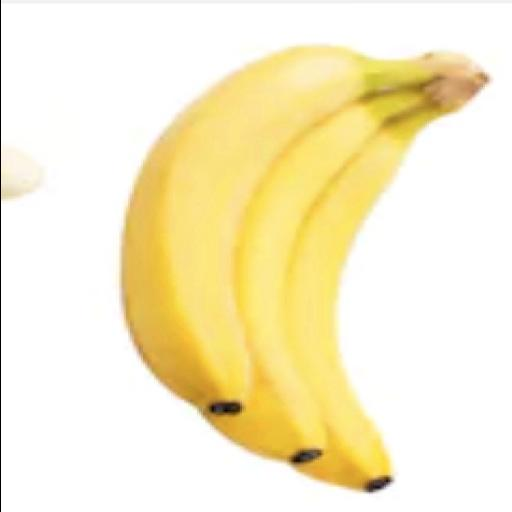banana: (123, 46, 460, 415), (282, 83, 481, 490), (235, 88, 425, 455), (1, 145, 43, 198)
